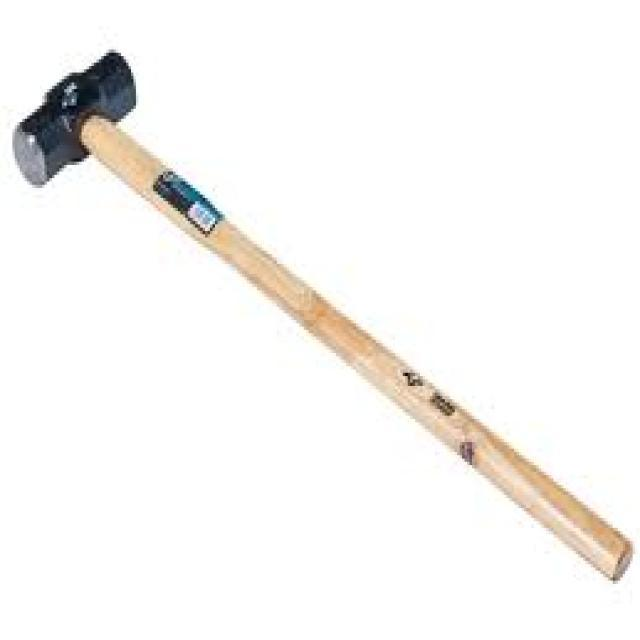Palu: (14, 18, 634, 597)
